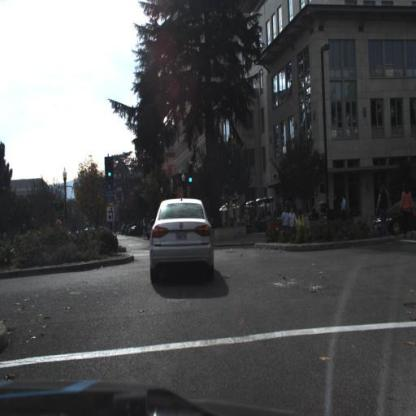car: (151, 194, 217, 285)
pedestrian: (378, 184, 391, 239), (403, 185, 415, 239), (342, 191, 352, 231), (282, 207, 291, 235), (333, 192, 340, 228), (340, 192, 347, 228), (332, 194, 340, 223), (291, 206, 298, 235), (283, 209, 289, 240), (292, 211, 297, 240)
trafficLight: (108, 157, 116, 181)
trafficLight-Green: (189, 167, 194, 188)
